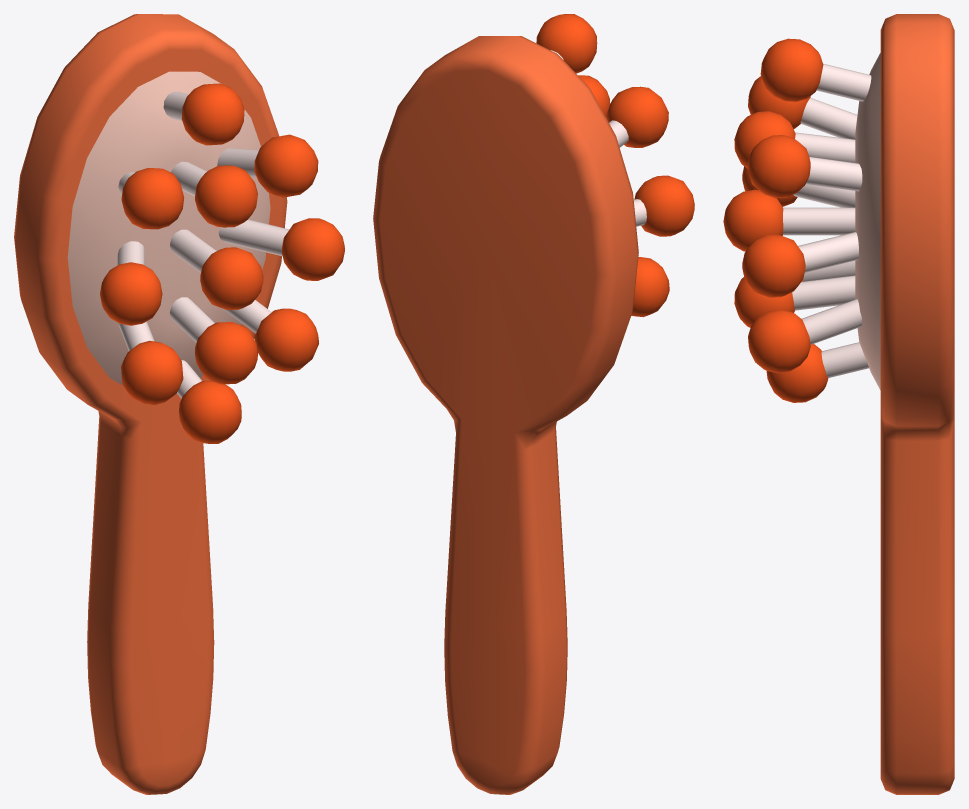
Rendered from Public_15_Hairbrush_2.glb.
The picture shows the model from 3 angles, left to right: view 1: azimuth 30°, elevation 25°; view 2: azimuth 150°, elevation 25°; view 3: azimuth 270°, elevation 25°; orthographic projection. The views are drawn at different scales.
Visible parts, largest first — view 1: Public_15_Hairbrush_2; view 2: Public_15_Hairbrush_2; view 3: Public_15_Hairbrush_2.
Boxes of the visible parts, <box> form: Public_15_Hairbrush_2: <box>14,14,344,794</box>; Public_15_Hairbrush_2: <box>373,14,694,794</box>; Public_15_Hairbrush_2: <box>723,14,954,794</box>.
Bounding box in the file's own units: 1.13 × 3.33 × 0.9086.
Materials: 1 (1 with a texture image).
